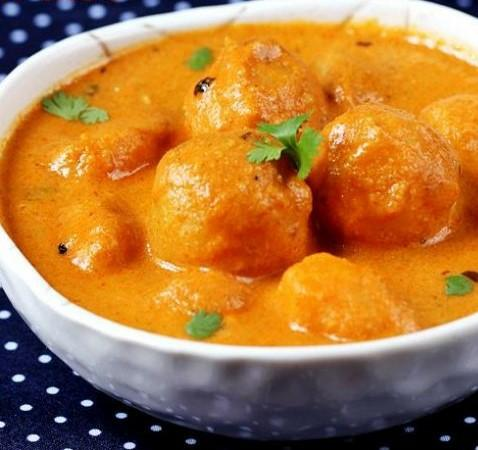DumAloo: (0, 0, 478, 345)
